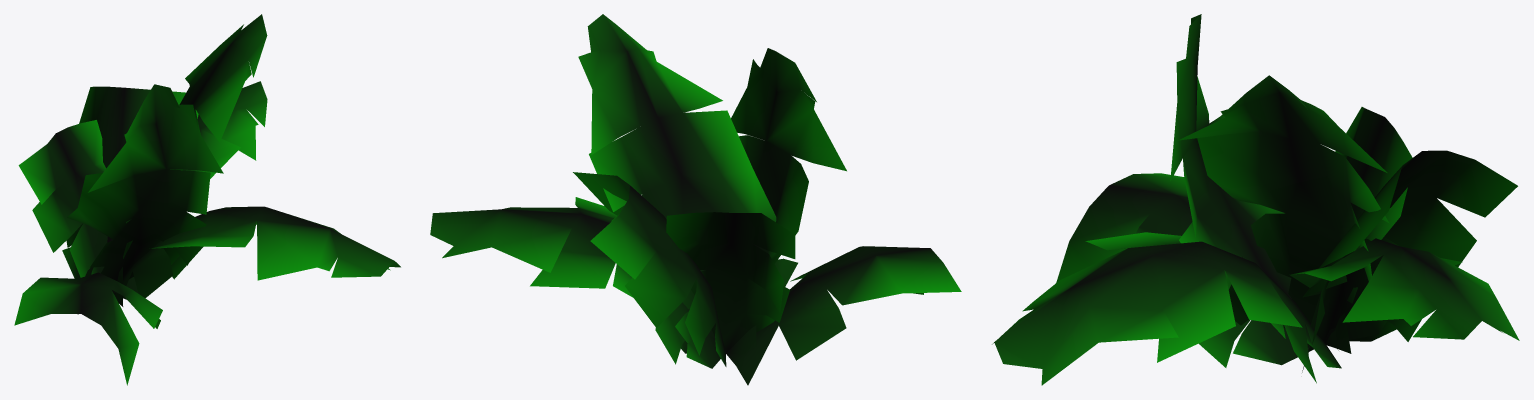
Rendered from FernCover02_afsTREE_xlprl08_xef05_xafs02.fbx.
The picture shows the model from 3 angles, left to right: view 1: azimuth 30°, elevation 25°; view 2: azimuth 150°, elevation 25°; view 3: azimuth 270°, elevation 25°; orthographic projection. The views are drawn at different scales.
Visible parts, largest first — view 1: frond_xw03_xt07_xlp05_xp10, frond_xw01_xt03_xlp01_xp09, frond_xw02_xt05_xlp03_xp03, frond_xw01_xt03_xlp02_xp05, trunk_xw03_xt06_xlp04, frond_xw02_xt05_xlp03_xp07, frond_xw01_xt03_xlp01_xp01; view 2: trunk_xw03_xt06_xlp04, frond_xw01_xt03_xlp01_xp01, frond_xw03_xt07_xlp05_xp10, frond_xw01_xt03_xlp02_xp05, frond_xw02_xt05_xlp03_xp03, frond_xw02_xt05_xlp03_xp07; view 3: frond_xw01_xt03_xlp01_xp09, trunk_xw03_xt06_xlp04, frond_xw01_xt03_xlp01_xp01, frond_xw02_xt05_xlp03_xp07, frond_xw01_xt03_xlp02_xp05, frond_xw03_xt07_xlp05_xp10, frond_xw02_xt05_xlp03_xp03.
Part boxes in pixels (x1,y1,x2,y2): frond_xw03_xt07_xlp05_xp10: (67, 84, 223, 280); frond_xw01_xt03_xlp01_xp09: (114, 206, 400, 303); frond_xw02_xt05_xlp03_xp03: (18, 120, 107, 277); frond_xw01_xt03_xlp02_xp05: (14, 272, 162, 385); trunk_xw03_xt06_xlp04: (113, 14, 267, 306); frond_xw02_xt05_xlp03_xp07: (62, 86, 198, 292); frond_xw01_xt03_xlp01_xp01: (137, 81, 267, 293); trunk_xw03_xt06_xlp04: (578, 14, 776, 342); frond_xw01_xt03_xlp01_xp01: (430, 197, 726, 368); frond_xw03_xt07_xlp05_xp10: (726, 48, 846, 355); frond_xw01_xt03_xlp02_xp05: (726, 246, 961, 385); frond_xw02_xt05_xlp03_xp03: (666, 212, 795, 353); frond_xw02_xt05_xlp03_xp07: (573, 172, 726, 366); frond_xw01_xt03_xlp01_xp09: (992, 232, 1341, 385); trunk_xw03_xt06_xlp04: (1178, 75, 1389, 342); frond_xw01_xt03_xlp01_xp01: (1289, 238, 1519, 372); frond_xw02_xt05_xlp03_xp07: (1303, 150, 1517, 347); frond_xw01_xt03_xlp02_xp05: (1056, 173, 1338, 367); frond_xw03_xt07_xlp05_xp10: (1170, 14, 1312, 347); frond_xw02_xt05_xlp03_xp03: (1325, 107, 1412, 353).
Size of the model in its own units: 0.9518 by 0.8808 by 0.7021.
